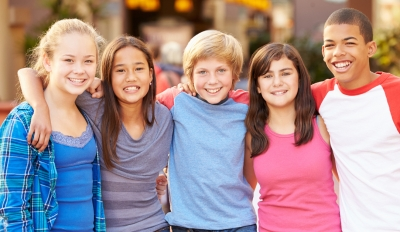bare: (322, 50, 371, 81), (51, 65, 95, 93), (258, 79, 303, 106), (109, 77, 152, 102), (196, 77, 232, 103)
